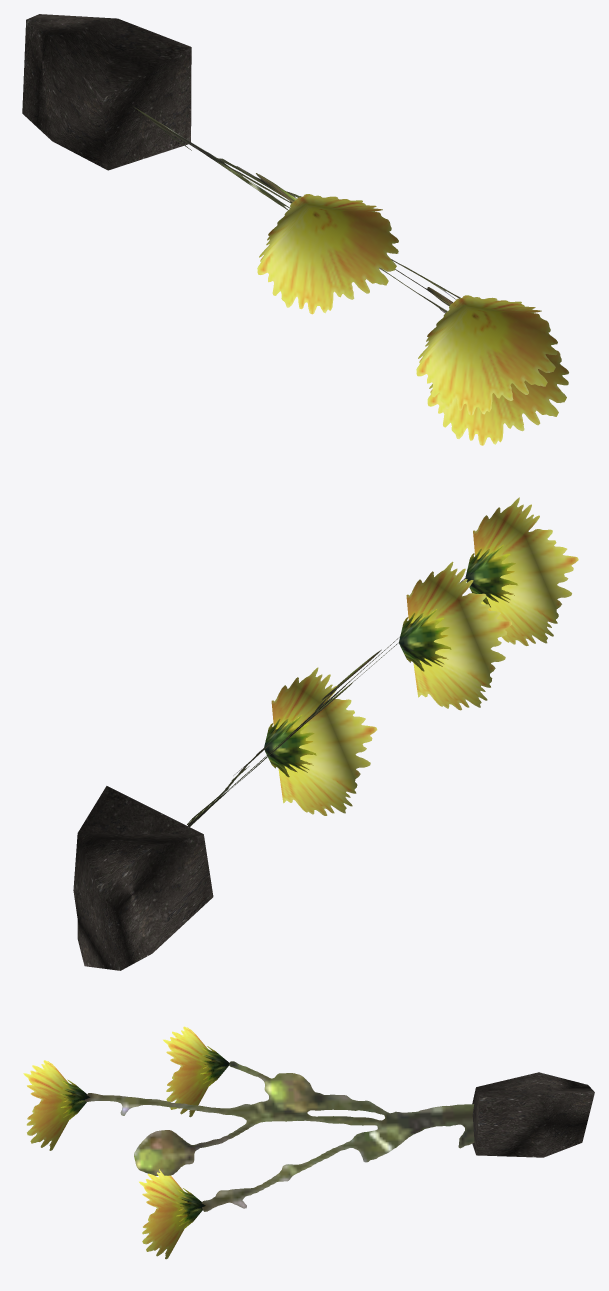
File: com_flower_yellow3_LOD0.obj
The picture shows the model from 3 angles, top to bottom: view 1: azimuth 30°, elevation 25°; view 2: azimuth 150°, elevation 25°; view 3: azimuth 270°, elevation 25°; orthographic projection. The views are drawn at different scales.
Parts seen in each view (by area): view 1: mtl_gardenflowers, mtl_plastic_bucket_soil; view 2: mtl_gardenflowers, mtl_plastic_bucket_soil; view 3: mtl_gardenflowers, mtl_plastic_bucket_soil.
Boxes of the visible parts, x1,y1,x2,y2 form: mtl_gardenflowers: (134,107,568,445); mtl_plastic_bucket_soil: (22,14,191,170); mtl_gardenflowers: (187,497,578,826); mtl_plastic_bucket_soil: (73,786,213,970); mtl_gardenflowers: (23,1026,474,1259); mtl_plastic_bucket_soil: (472,1072,594,1157).
Bounding box in the file's own units: 16.84 × 17.01 × 44.05.
